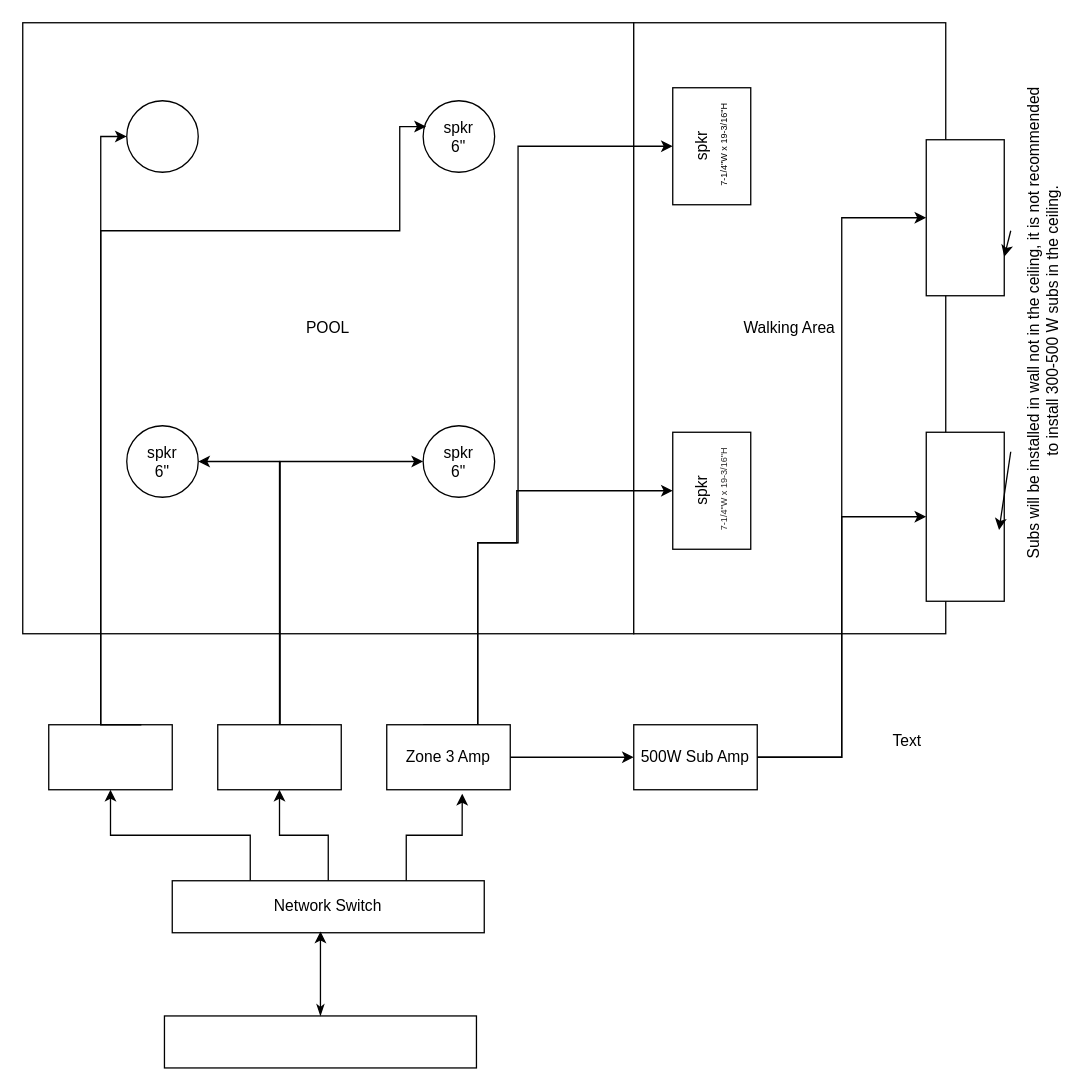
This 1092x1091 diagram has some shape labels left out. Each missing label, with the box of its shape:
Basement aggregate switch: (163, 1015, 476, 1068)
In wall sub: (925, 138, 1004, 296)
Optional in wall secondary sub: (925, 431, 1004, 601)
spark 6": (125, 99, 198, 172)
Zone 1 Amp: (47, 723, 172, 790)
Zone 2 Amp: (216, 723, 341, 790)
